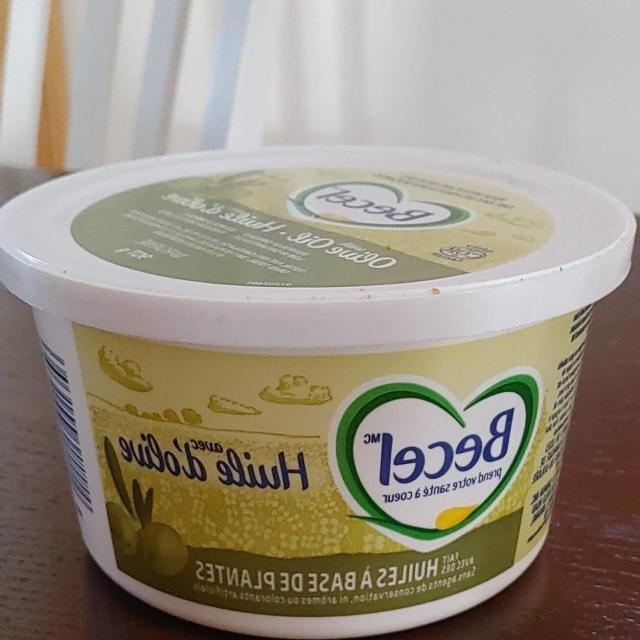plastic: (2, 140, 629, 636)
